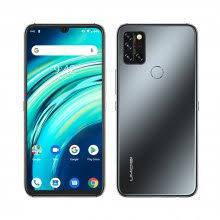Smartphone: (115, 27, 198, 194), (26, 25, 102, 193)
